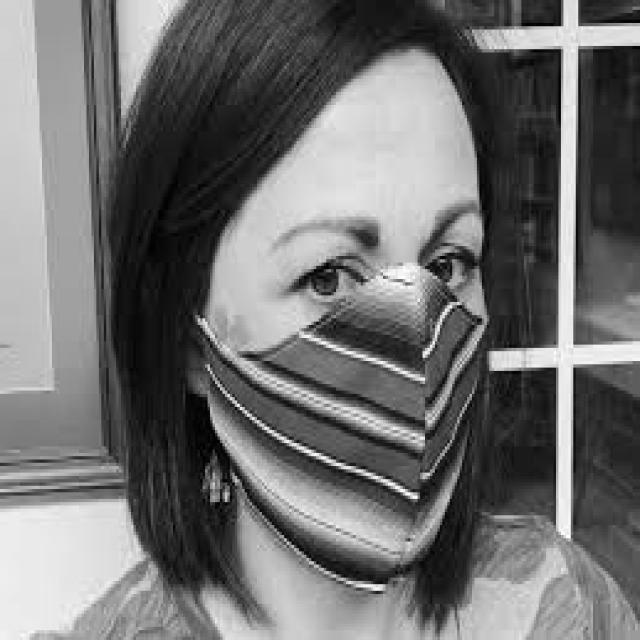fake: (204, 262, 491, 592)
real: (204, 54, 491, 600)
